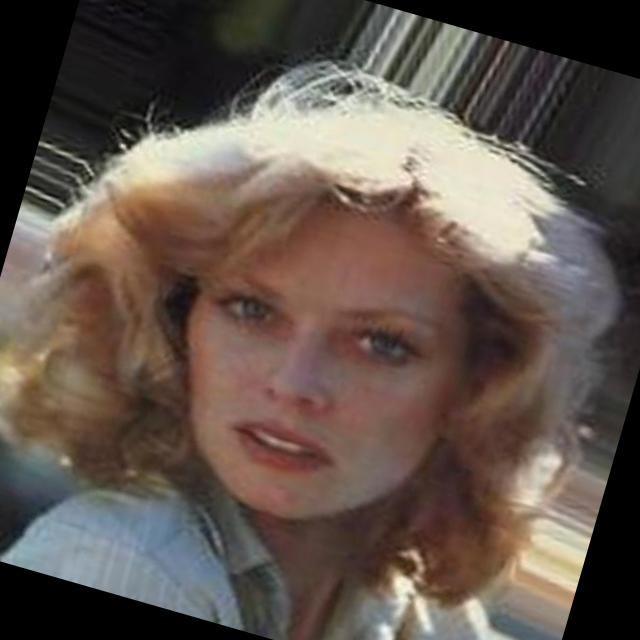bareface: (52, 59, 610, 600)
